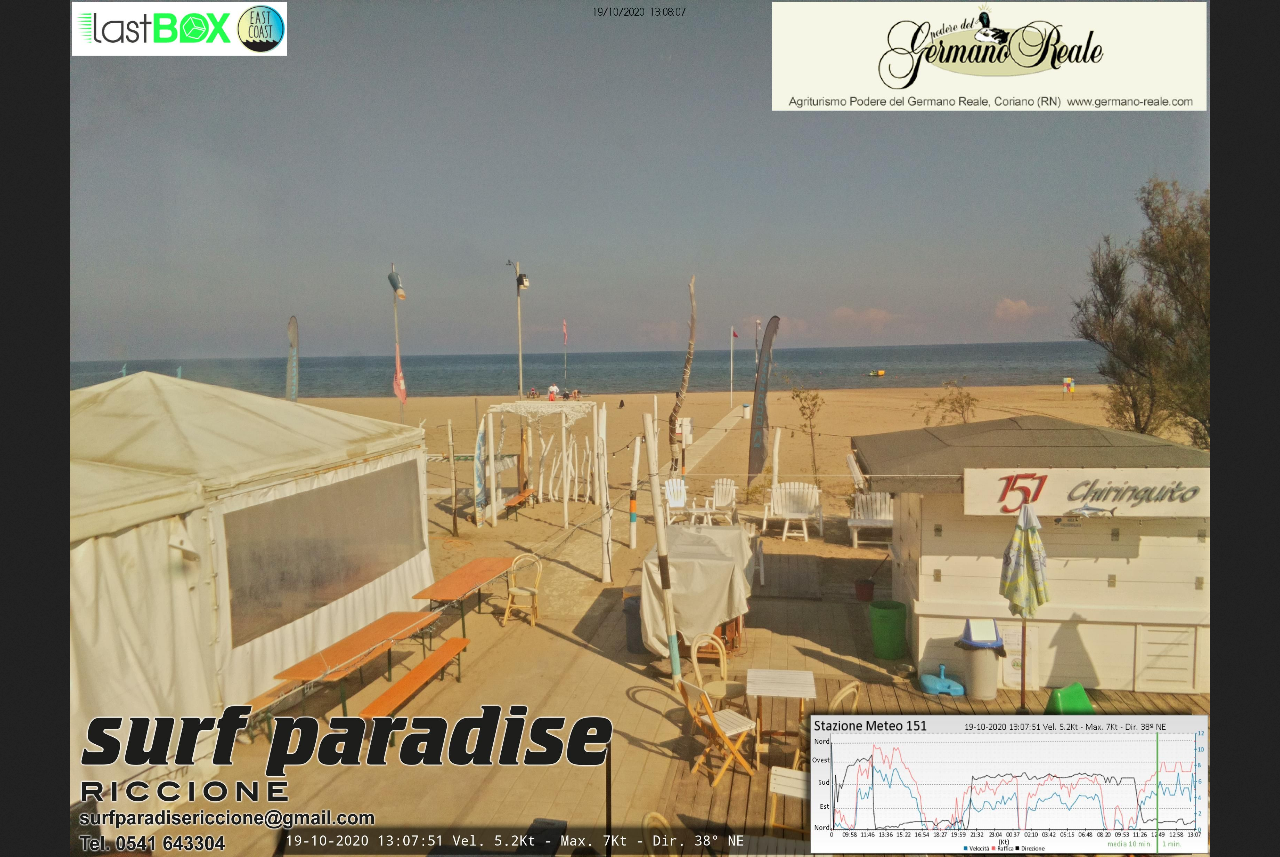no: (386, 336, 412, 409), (555, 318, 573, 351)
